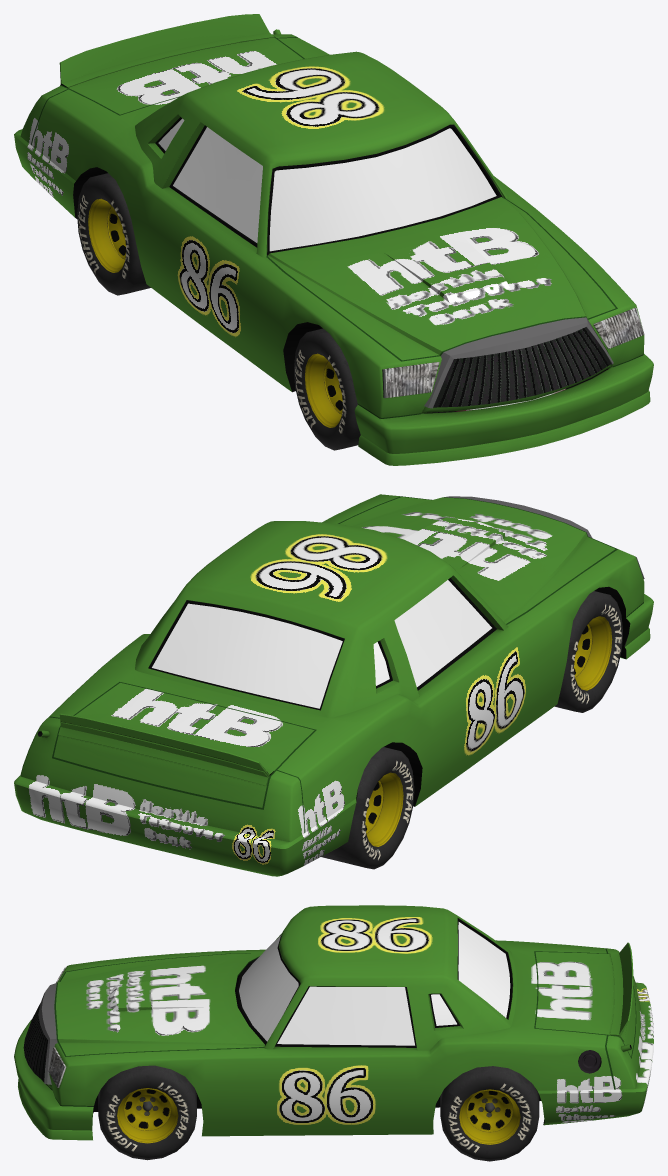
File: green-monte-carlo.glb
3 renders of one model, top to bottom at view 1: azimuth 30°, elevation 25°; view 2: azimuth 150°, elevation 25°; view 3: azimuth 270°, elevation 25°, orthographic. The views are drawn at different scales.
Visible parts, largest first — view 1: bodyMesh_ChickHicks_Body.002, bodyMesh_eyeshader.001, bodyMesh_ChickHicks_Windows.001, Wheel1.001, Wheel2.001, bodyMesh_ChickHicks_Tires.003, bodyMesh_ChickHicks_Tires.002; view 2: bodyMesh_ChickHicks_Body.002, bodyMesh_ChickHicks_Windows.001, Wheel2.001, Wheel1.001, bodyMesh_ChickHicks_Tires.003; view 3: bodyMesh_ChickHicks_Body.002, bodyMesh_ChickHicks_Windows.001, !Wheel1, !Wheel2, bodyMesh_eyeshader.001, bodyMesh_ChickHicks_Tires.003, bodyMesh_ChickHicks_Tires.002.
Boxes of the visible parts, bbox=[...] form: bodyMesh_ChickHicks_Body.002: bbox=[14, 14, 653, 465]; bodyMesh_eyeshader.001: bbox=[269, 128, 496, 251]; bodyMesh_ChickHicks_Windows.001: bbox=[158, 118, 262, 242]; Wheel1.001: bbox=[294, 328, 360, 450]; Wheel2.001: bbox=[77, 173, 150, 295]; bodyMesh_ChickHicks_Tires.003: bbox=[424, 317, 612, 407]; bodyMesh_ChickHicks_Tires.002: bbox=[428, 318, 613, 408]; bodyMesh_ChickHicks_Body.002: bbox=[14, 494, 653, 876]; bodyMesh_ChickHicks_Windows.001: bbox=[152, 580, 491, 708]; Wheel2.001: bbox=[321, 747, 414, 869]; Wheel1.001: bbox=[554, 591, 622, 712]; bodyMesh_ChickHicks_Tires.003: bbox=[444, 496, 587, 531]; bodyMesh_ChickHicks_Body.002: bbox=[14, 905, 653, 1140]; bodyMesh_ChickHicks_Windows.001: bbox=[277, 922, 510, 1045]; !Wheel1: bbox=[440, 1066, 539, 1161]; !Wheel2: bbox=[98, 1065, 196, 1160]; bodyMesh_eyeshader.001: bbox=[239, 934, 298, 1041]; bodyMesh_ChickHicks_Tires.003: bbox=[41, 983, 56, 1084]; bodyMesh_ChickHicks_Tires.002: bbox=[38, 992, 57, 1084].
Size of what is drawn, in the model's own units: 2.11 by 1.5 by 5.03.
Materials: 4 (2 with a texture image).
